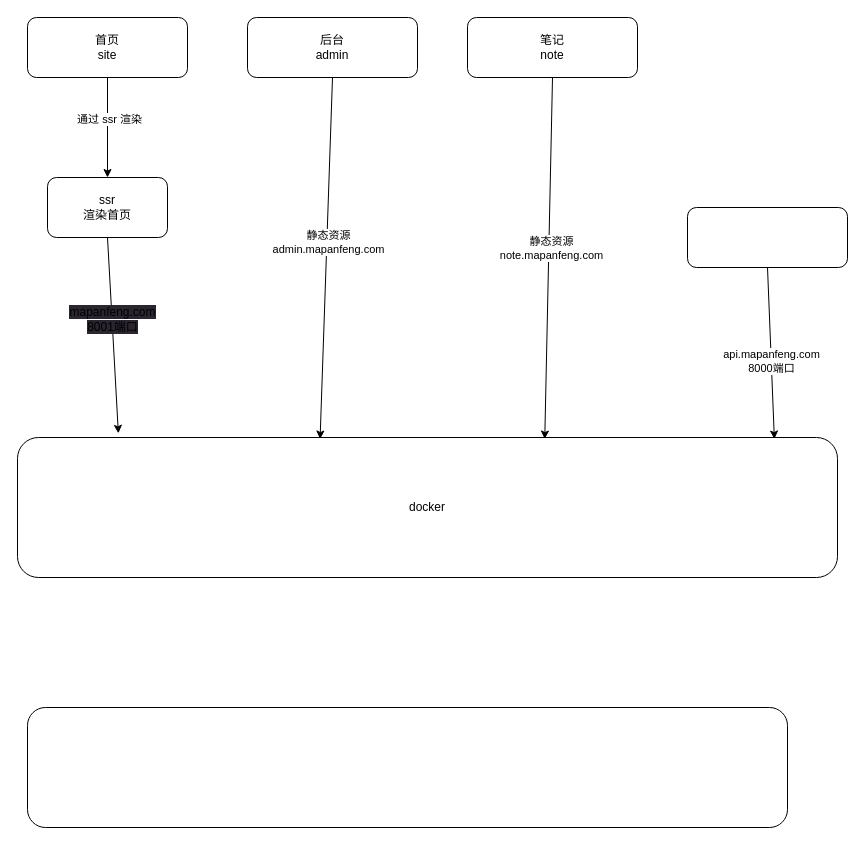
This 865x845 diagram has some shape labels left out. Here are the shapes that lost their labels. From the top down, the box of each, then its label:
(686, 206, 848, 268): 后端接口 api.mapanfeng.com
(26, 706, 788, 828): nginx
